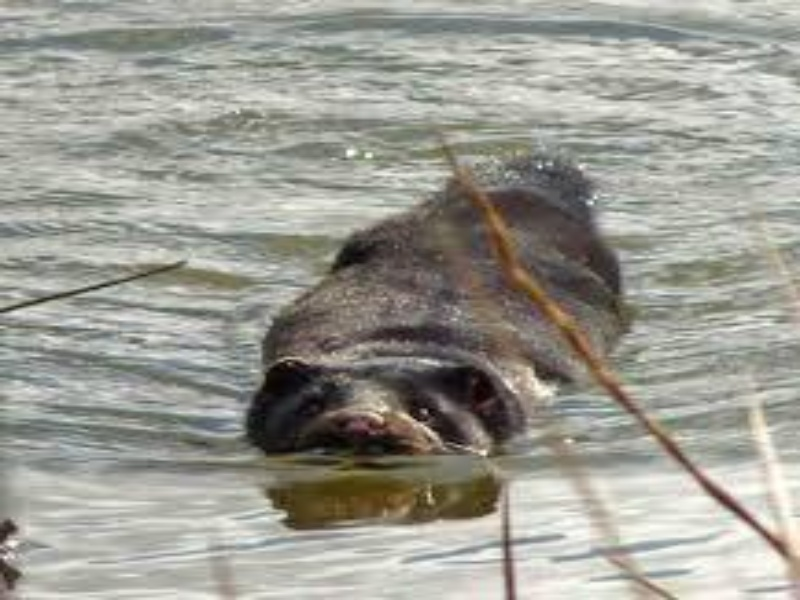minkish: (241, 146, 624, 469)
